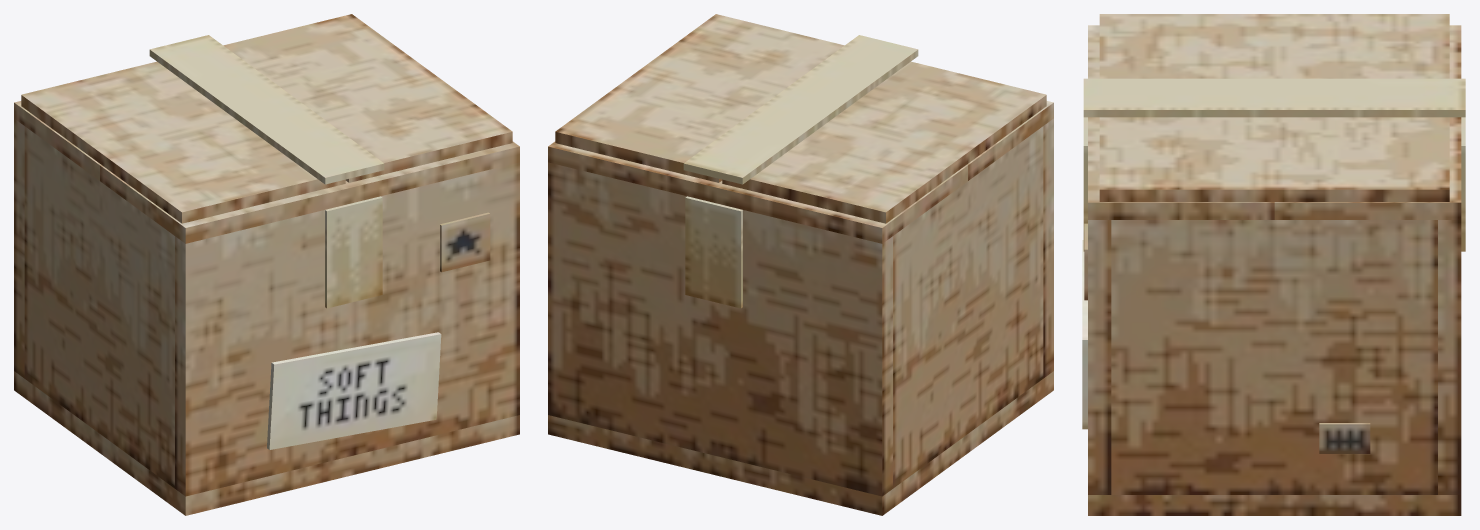
File: box_f2_linen.glb
3 renders of one model, left to right at view 1: azimuth 30°, elevation 25°; view 2: azimuth 150°, elevation 25°; view 3: azimuth 270°, elevation 25°, orthographic. The views are drawn at different scales.
Visible parts, largest first — view 1: solid (×6); view 2: solid (×6); view 3: solid (×6).
Part boxes in pixels (x1,y1,x2,y2): solid (×6): [14, 14, 519, 515]; solid (×6): [548, 14, 1053, 515]; solid (×6): [1082, 14, 1465, 515].
Size of the model in its own units: 18.16 by 15.74 by 16.44.
1 material, 1 textured.
